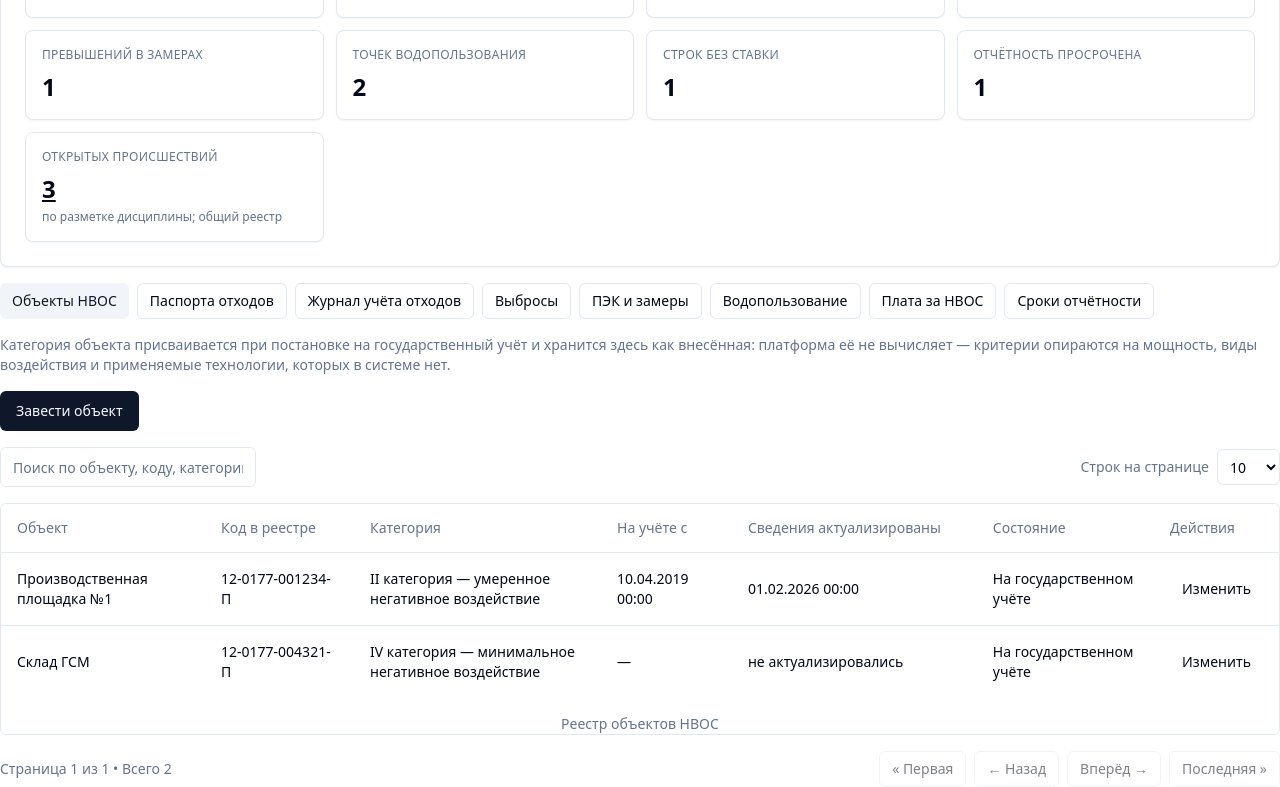
EcologyPage › объект НВОС заводится с экрана, а не только через API (срез-99)
(page scrolled)
Expected: the text "Производственная площадка №1" is shown, [1,552,205,625]
Expected: the number of buttons "Изменить" is 2, [1170,570,1263,606]; [1170,644,1263,680]
Click the button "Завести объект" at (69, 411), box [0,391,139,431]
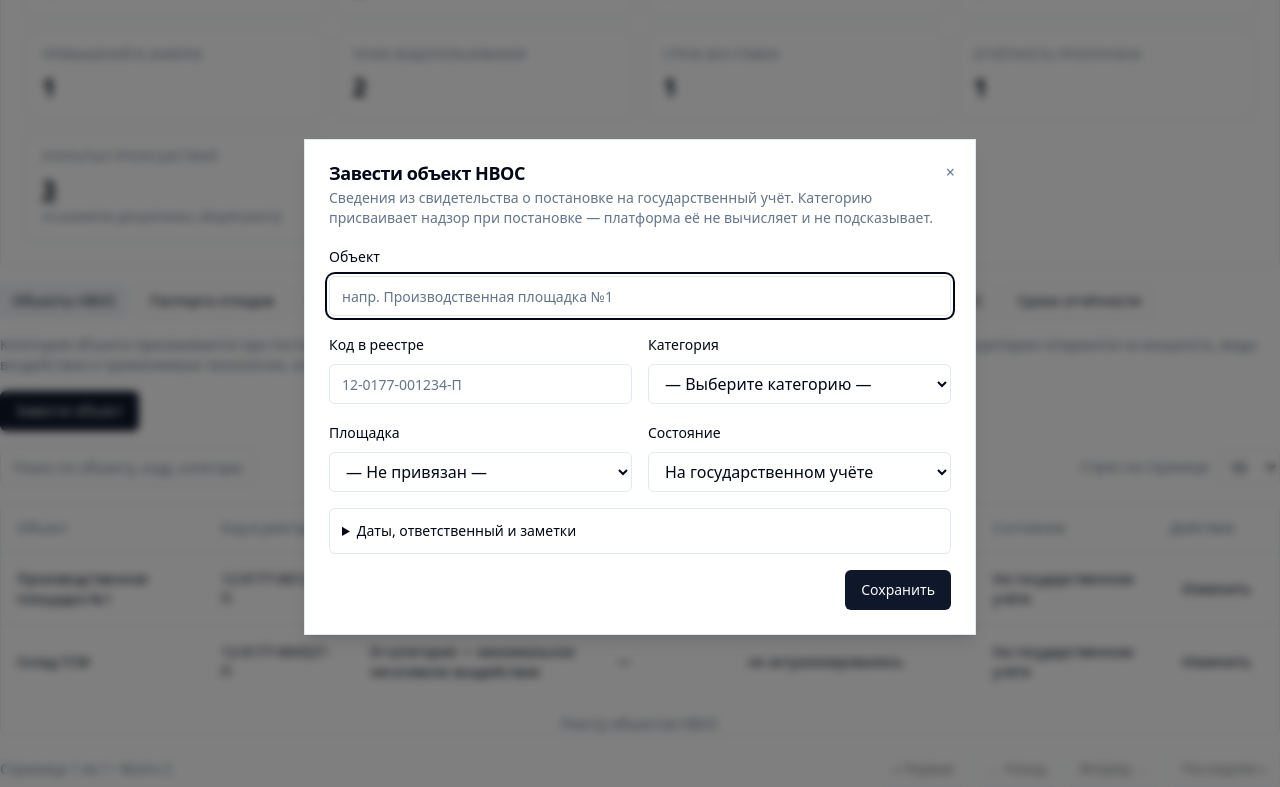
Type "Котельная №3" into the field labelled "Объект" at (640, 296), box [329,276,951,316]
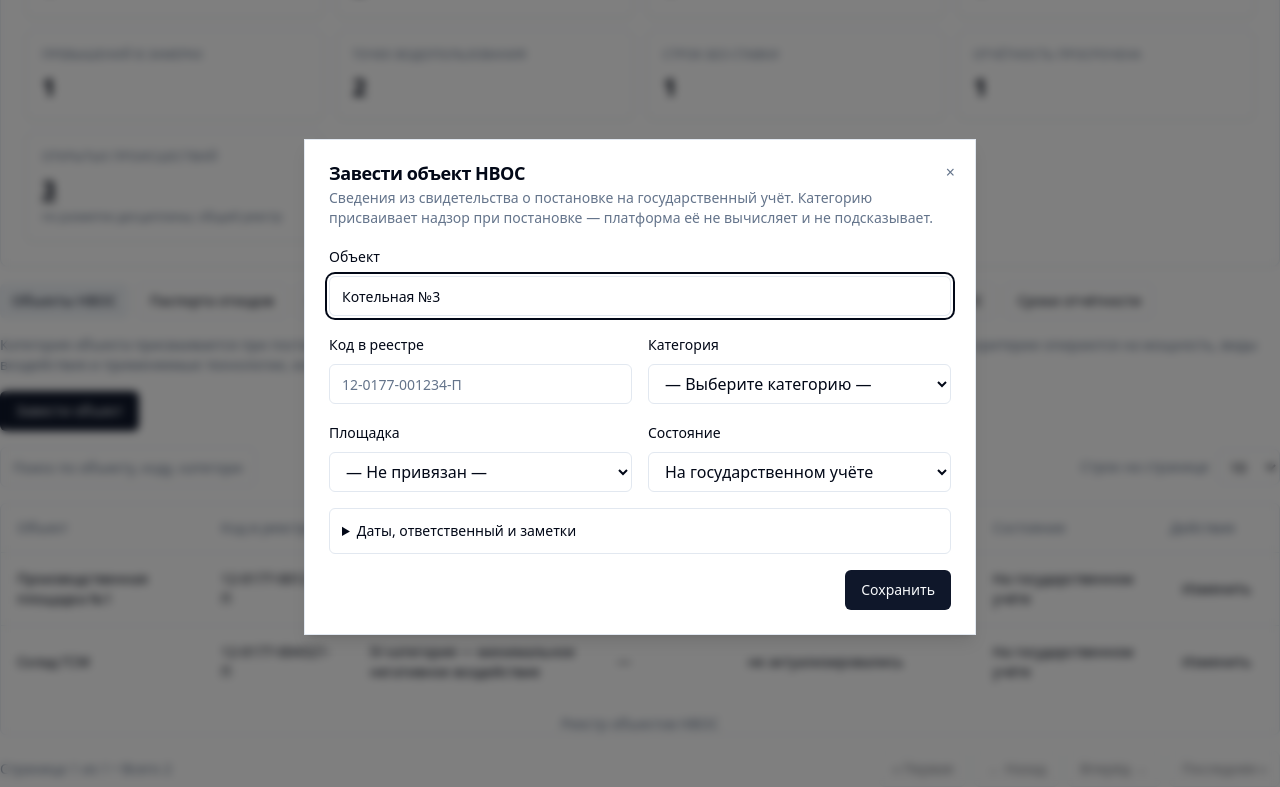
Type "12-0177-009999-П" into the field labelled "Код в реестре" at (480, 384), box [329,364,632,404]
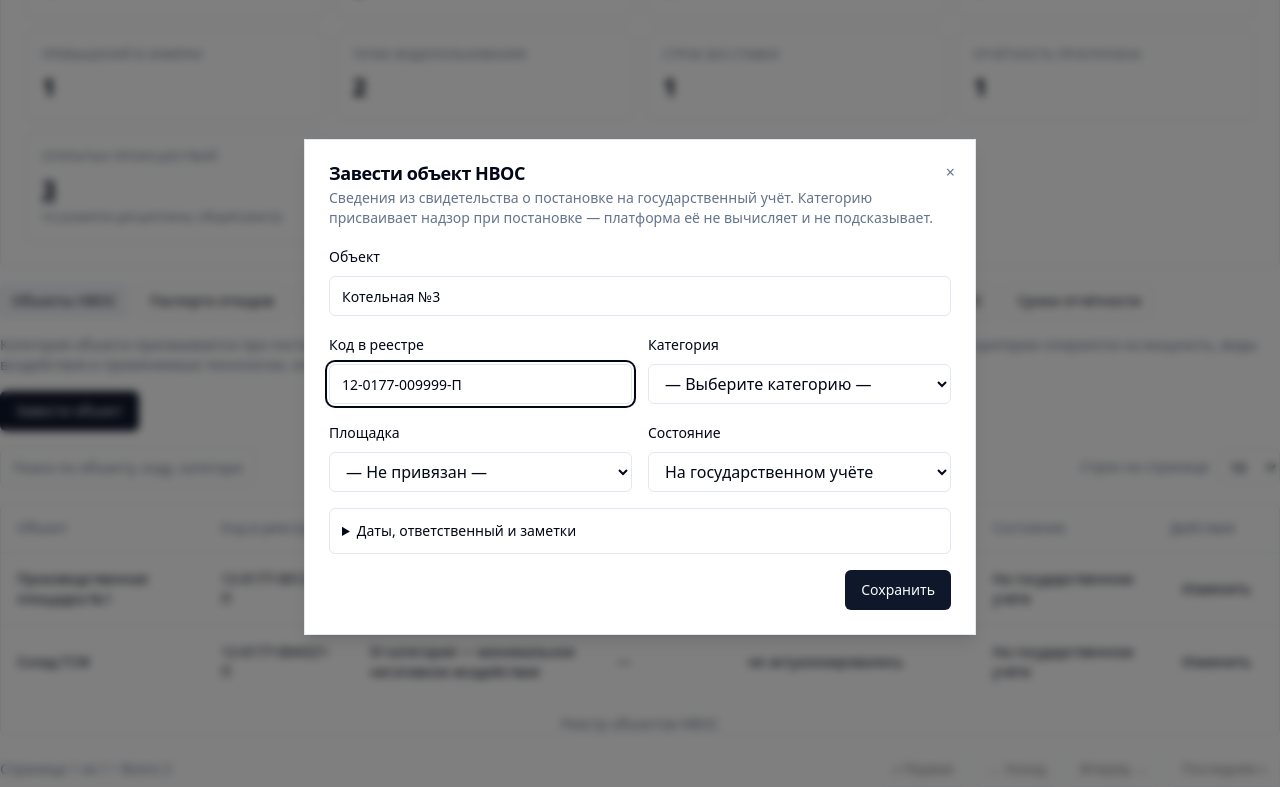
Select "III категория — незначительное негативное воздействие" in the dropdown labelled "Категория" at (800, 384), box [648,364,951,404]
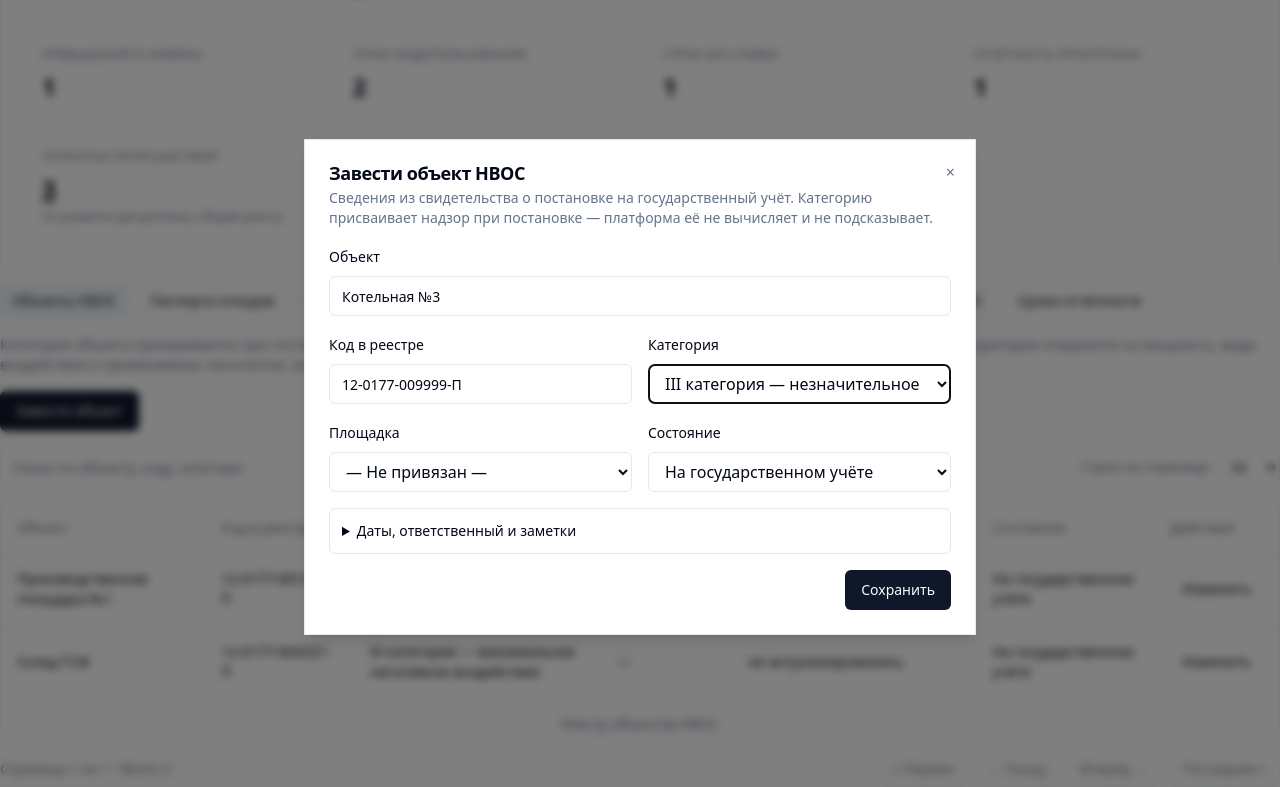
# Площадки приходят из ядрового справочника, а не вводятся id руками.
Select "Площадка №1" in the dropdown labelled "Площадка" at (480, 472), box [329,452,632,492]
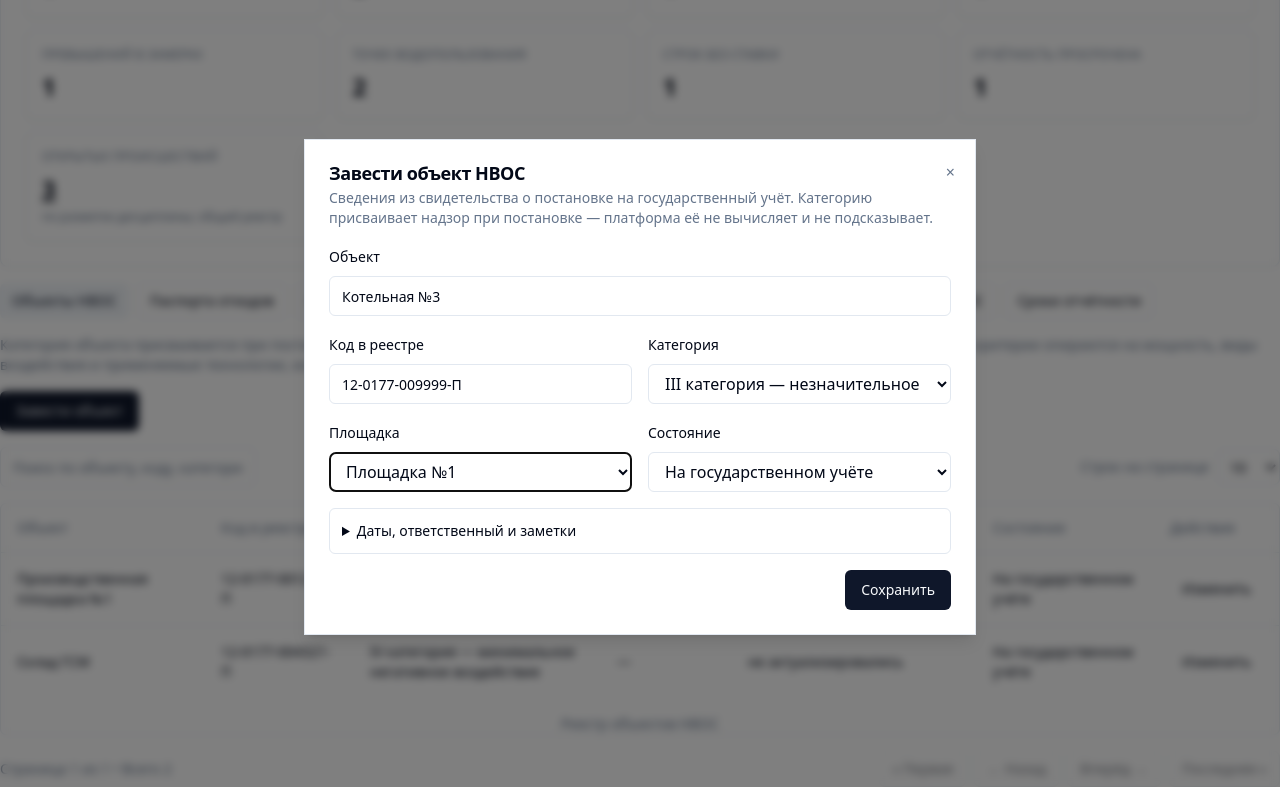
Click the button "Сохранить" at (898, 590), box [845,570,951,610]
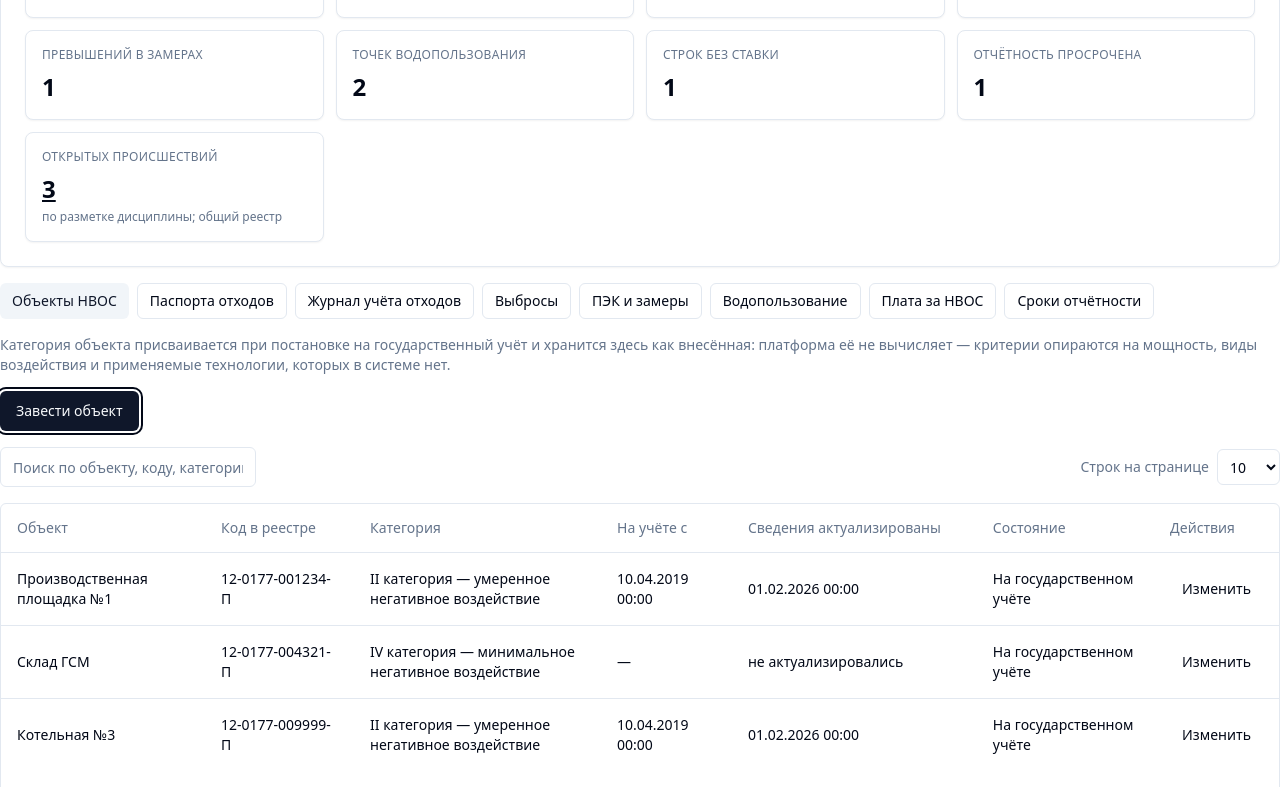
Expected: the text "Котельная №3" is shown, [1,698,205,770]
